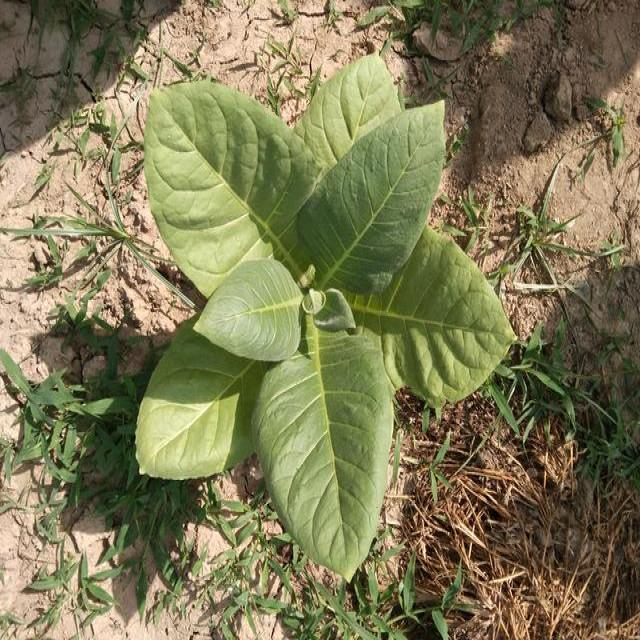crop: (132, 60, 513, 584)
